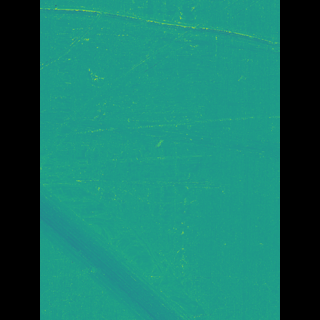Loch: (67, 140, 196, 320), (127, 0, 198, 273), (68, 0, 250, 58), (69, 107, 250, 164)
